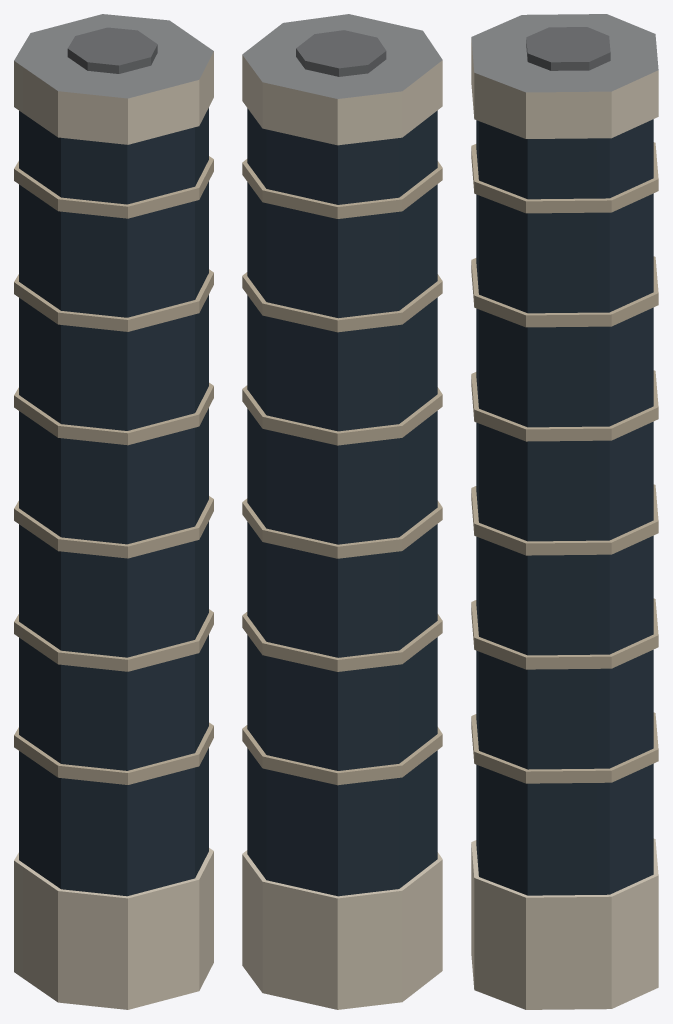
Rendered from 455_karen_avenue_w134696134.glb.
The picture shows the model from 3 angles, left to right: view 1: azimuth 30°, elevation 25°; view 2: azimuth 150°, elevation 25°; view 3: azimuth 270°, elevation 25°; orthographic projection.
Parts seen in each view (by area): view 1: Tower455; view 2: Tower455; view 3: Tower455.
Boxes of the visible parts, x1,y1,x2,y2 form: Tower455: (14, 14, 213, 1009); Tower455: (242, 14, 442, 1009); Tower455: (471, 14, 658, 1009).
Bounding box in the file's own units: 9.74 × 53.6 × 9.82.
